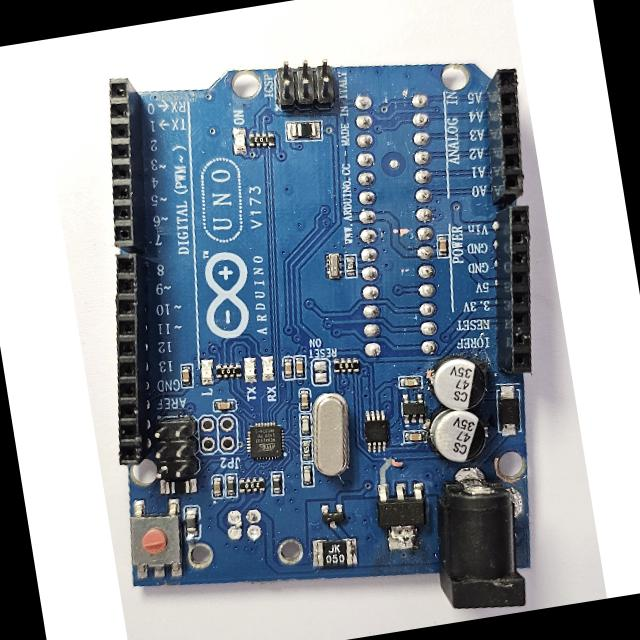missing_atmega: (353, 82, 445, 367)
missing_usb: (204, 500, 310, 575)
